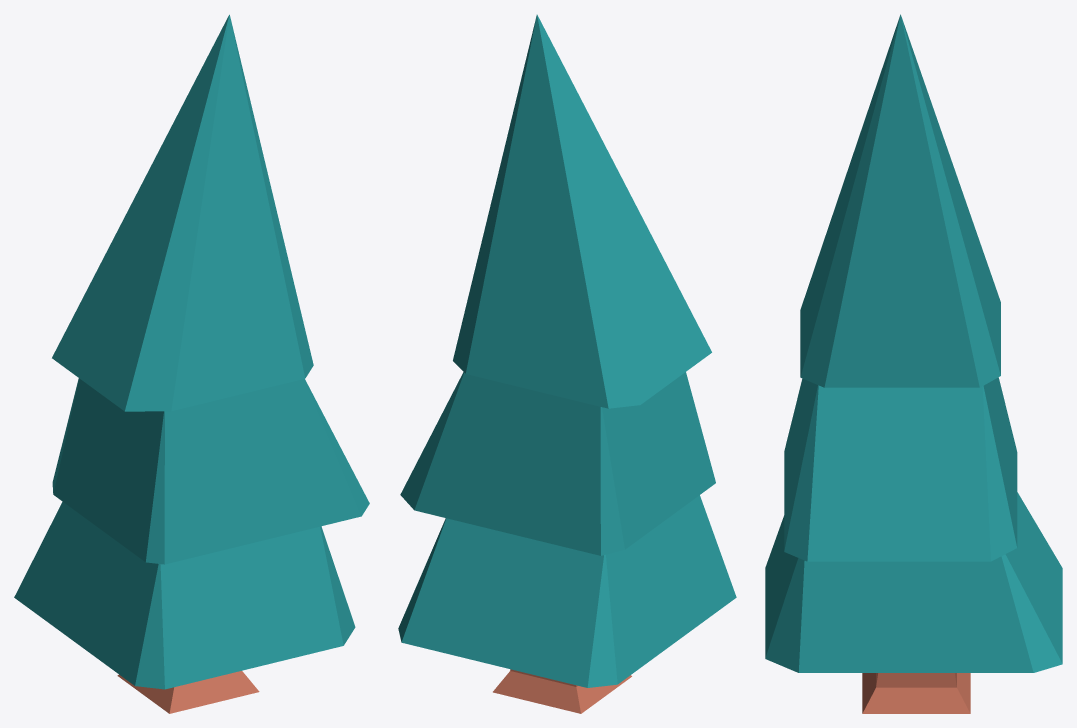
Rendered from tree_pineSmallB.dae.
3 renders of one model, left to right at view 1: azimuth 30°, elevation 25°; view 2: azimuth 150°, elevation 25°; view 3: azimuth 270°, elevation 25°, orthographic. The views are drawn at different scales.
Visible parts, largest first — view 1: tree_pineSmallB; view 2: tree_pineSmallB; view 3: tree_pineSmallB.
Boxes of the visible parts, left/top/right/bottom form: tree_pineSmallB: left=14, top=14, right=369, bottom=713; tree_pineSmallB: left=398, top=14, right=736, bottom=713; tree_pineSmallB: left=765, top=14, right=1062, bottom=713.
Bounding box in the file's own units: 0.3863 × 1.01 × 0.3919.
